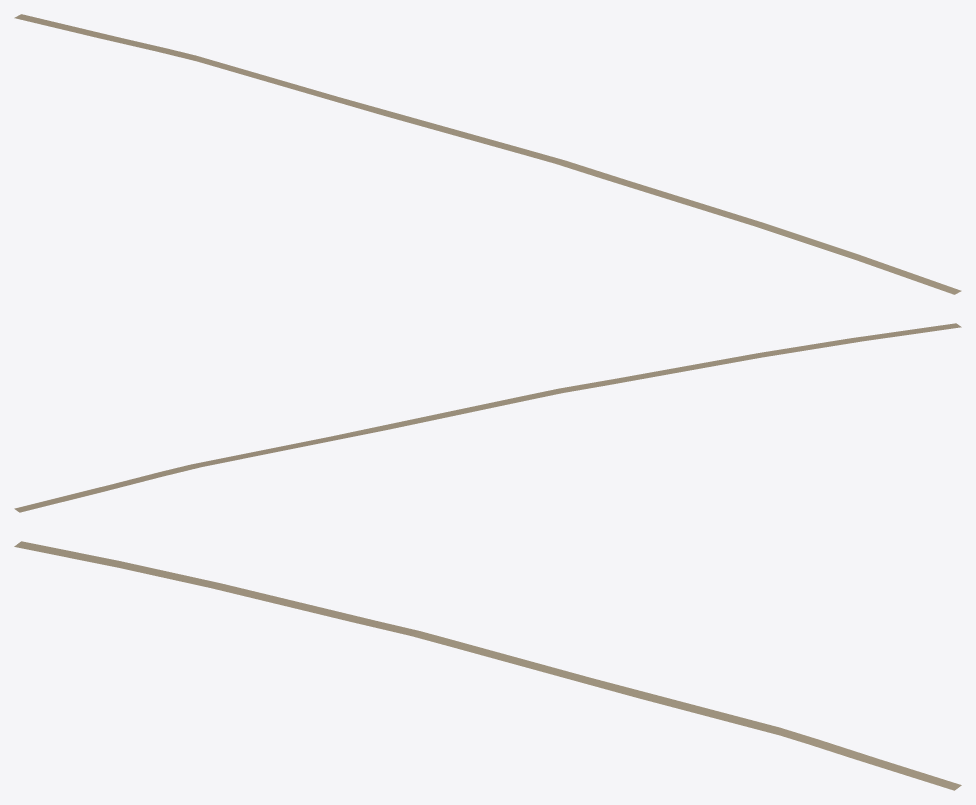
The model's file is farm_-32_-29_track.glb.
3 renders of one model, top to bottom at view 1: azimuth 90°, elevation 25°; view 2: azimuth 150°, elevation 25°; view 3: azimuth 270°, elevation 25°, orthographic. The views are drawn at different scales.
Visible parts, largest first — view 1: geometry_0; view 2: geometry_0; view 3: geometry_0.
Part boxes in pixels (x1,y1,x2,y2): geometry_0: (14,14,961,294); geometry_0: (14,323,961,512); geometry_0: (14,541,961,790).
Bounding box in the file's own units: 152 × 6.56 × 230.
